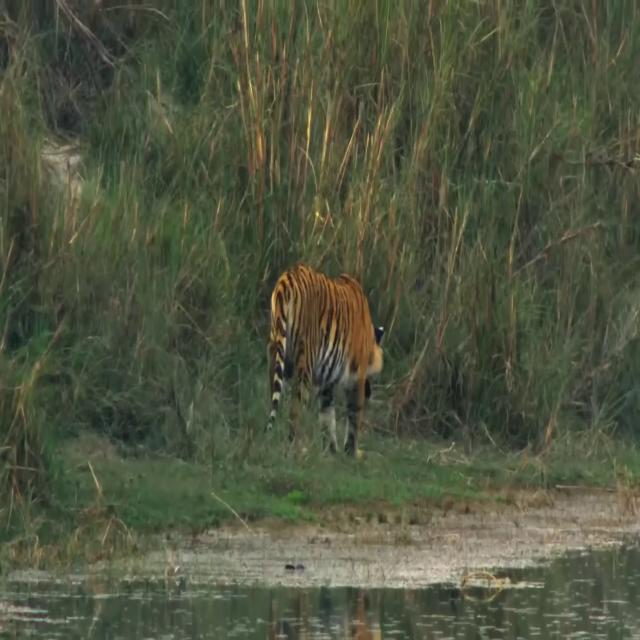tiger: (265, 267, 385, 456)
